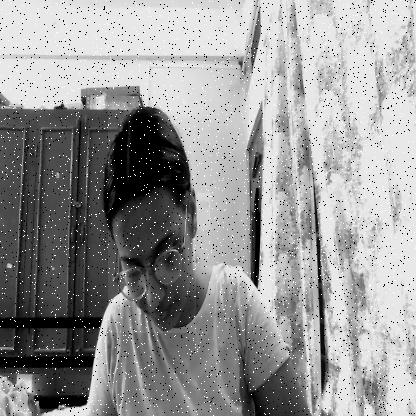Distracted: (108, 107, 196, 333)
